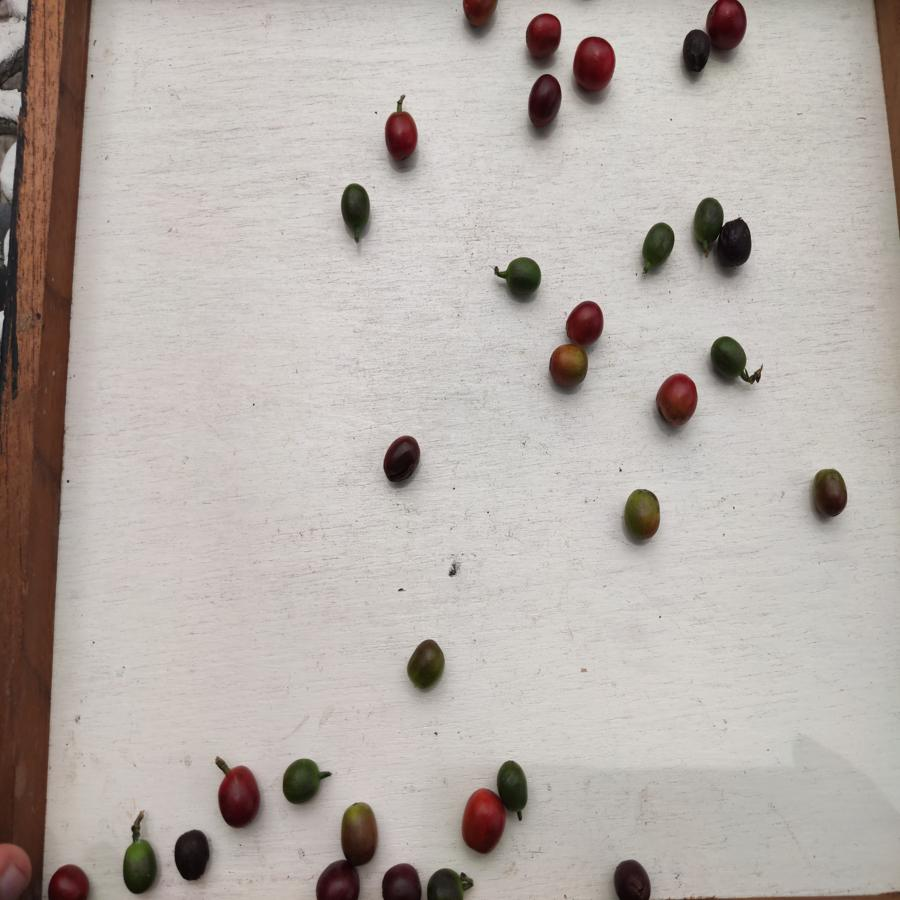Inmaduro: (708, 336, 762, 388), (122, 836, 158, 895), (280, 758, 324, 806), (495, 256, 542, 298), (498, 760, 528, 824), (641, 221, 676, 273), (340, 182, 371, 232), (693, 195, 719, 254), (425, 867, 470, 900)
Maduro: (216, 766, 263, 828), (461, 788, 501, 858), (573, 36, 618, 91), (654, 373, 699, 427), (706, 1, 749, 52), (383, 110, 419, 163), (525, 11, 562, 60), (566, 300, 606, 345), (48, 862, 92, 900), (458, 1, 501, 33)
Pinton: (341, 800, 378, 862), (623, 488, 663, 541), (811, 465, 850, 518), (406, 638, 444, 692), (547, 344, 588, 389)
Sobremaduro: (172, 829, 212, 883), (313, 861, 363, 900), (527, 74, 562, 128), (719, 216, 754, 270), (383, 434, 422, 482), (612, 859, 654, 900), (381, 862, 422, 900), (682, 28, 709, 74)
